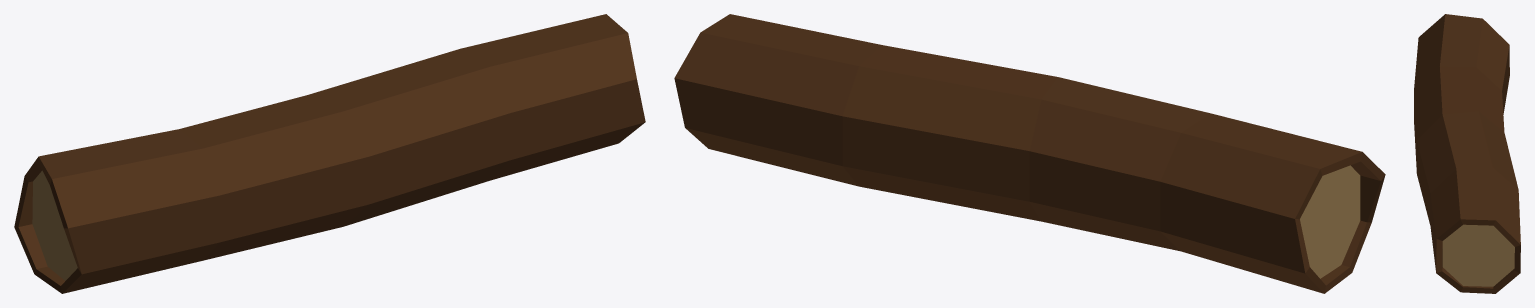
The model's file is Log1.fbx.
3 renders of one model, left to right at view 1: azimuth 30°, elevation 25°; view 2: azimuth 150°, elevation 25°; view 3: azimuth 270°, elevation 25°, orthographic. The views are drawn at different scales.
Visible parts, largest first — view 1: Cylinder.011; view 2: Cylinder.011; view 3: Cylinder.011.
Part boxes in pixels (x1=…): Cylinder.011: x1=14, y1=14, x2=645, y2=293; Cylinder.011: x1=674, y1=14, x2=1385, y2=293; Cylinder.011: x1=1414, y1=14, x2=1520, y2=293.
Size of the model in its own units: 253 by 47.21 by 55.47.
